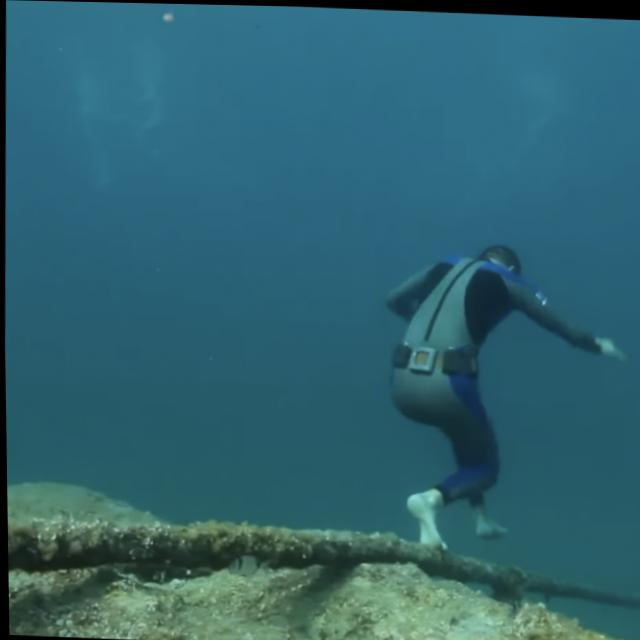human: (362, 225, 632, 567)
